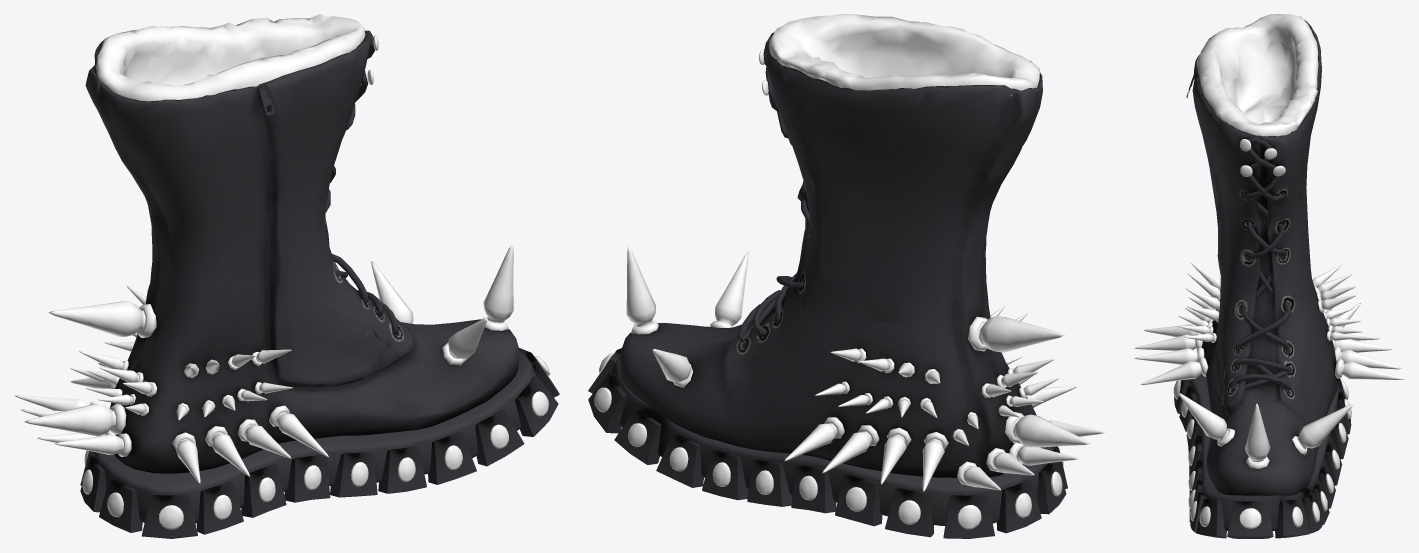
The model's file is boot_left.fbx.
The picture shows the model from 3 angles, left to right: view 1: azimuth 30°, elevation 25°; view 2: azimuth 150°, elevation 25°; view 3: azimuth 270°, elevation 25°; orthographic projection. The views are drawn at different scales.
Parts seen in each view (by area): view 1: boot_main_lo; view 2: boot_main_lo; view 3: boot_main_lo.
Part boxes in pixels (x1,y1,x2,y2): boot_main_lo: [14, 14, 559, 538]; boot_main_lo: [588, 14, 1105, 538]; boot_main_lo: [1134, 14, 1404, 538].
Bounding box in the file's own units: 371 × 326 × 205.
3 materials, 1 textured.
